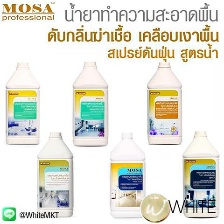cleaning_solution: (179, 127, 221, 222), (107, 131, 148, 220), (142, 60, 184, 146), (35, 129, 74, 220), (70, 59, 110, 147), (3, 59, 40, 147)
